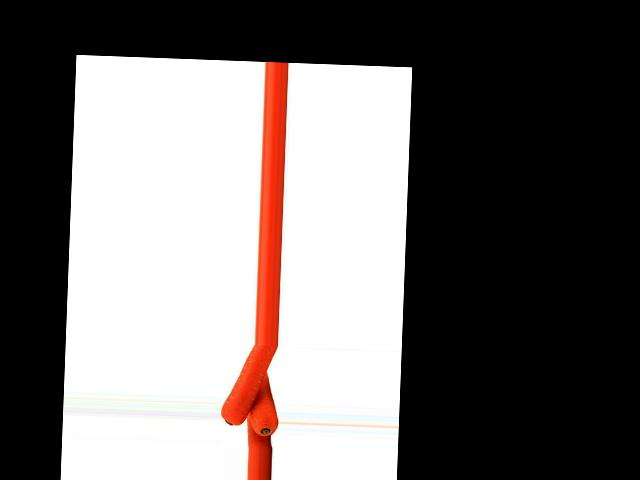carrot: (249, 368, 278, 440)
